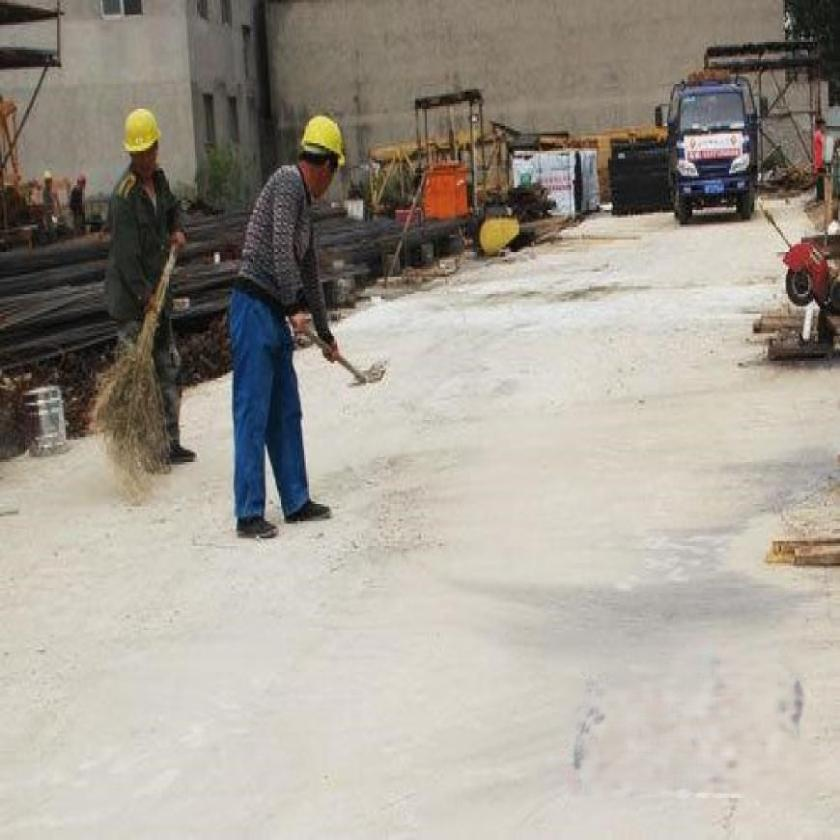Con_casco: (297, 111, 345, 196), (120, 102, 162, 180)
